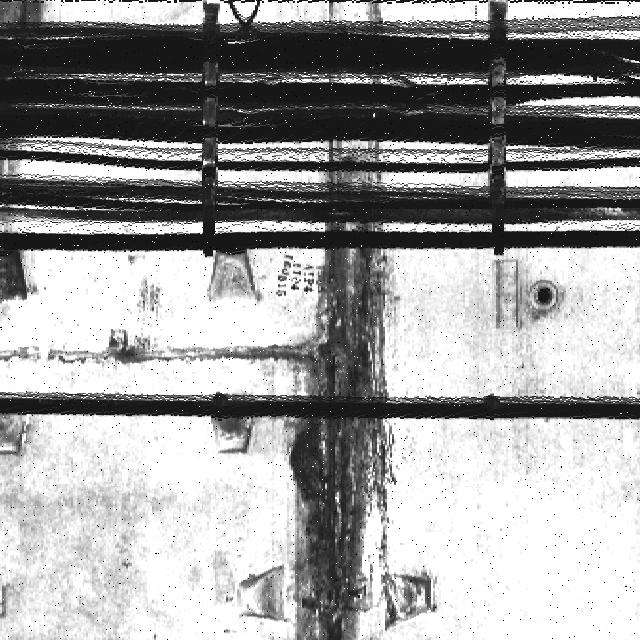leakage: (285, 160, 413, 640)
